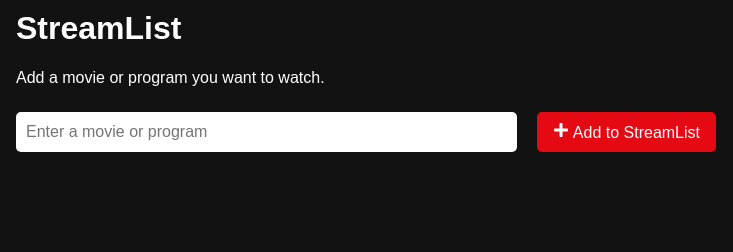
Test: adds a new item to StreamList
The image size is (733, 252).
Step 1. Type "Spider-Man" into the field with placeholder "Enter a movie or program" → (267, 132), box [16,112,517,152]
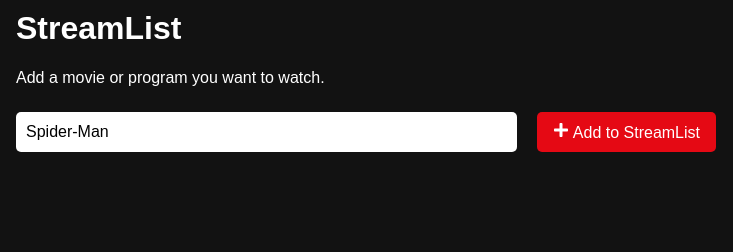
Step 2. Click the button "Add to StreamList" → (627, 132), box [537,112,716,152]
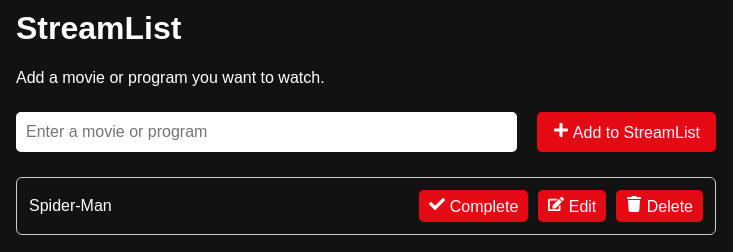
Now the text "Spider-Man" is shown, box [29,197,112,214]
